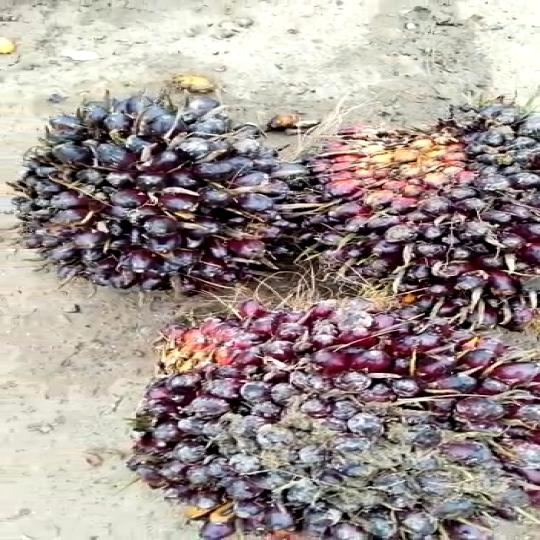kurang masak: (154, 303, 540, 540), (293, 104, 540, 328), (13, 91, 298, 277)
